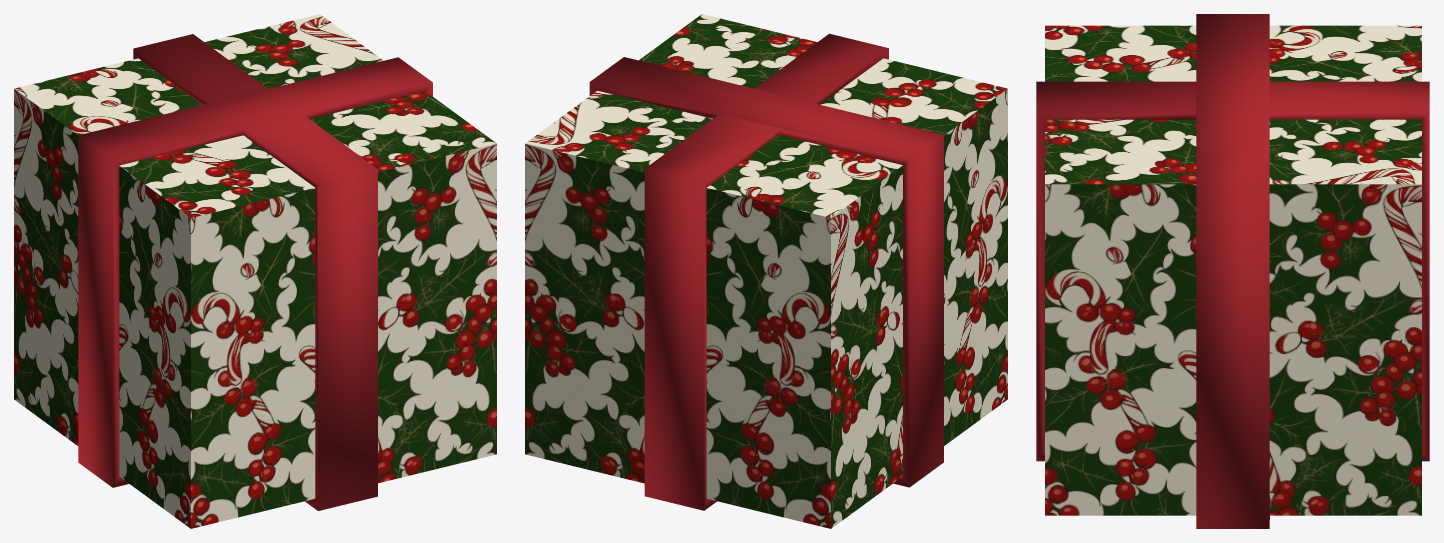
File: giftSmallWhite2.glb
The picture shows the model from 3 angles, left to right: view 1: azimuth 30°, elevation 25°; view 2: azimuth 150°, elevation 25°; view 3: azimuth 270°, elevation 25°; orthographic projection. The views are drawn at different scales.
Visible parts, largest first — view 1: GiftSmallWhite2; view 2: GiftSmallWhite2; view 3: GiftSmallWhite2.
Part boxes in pixels (x1,y1,x2,y2): GiftSmallWhite2: (14,14,496,528); GiftSmallWhite2: (525,14,1007,528); GiftSmallWhite2: (1036,14,1429,528).
Size of what is drawn, in the model's own units: 0.6371 by 0.6227 by 0.6371.
2 materials, 2 textured.
